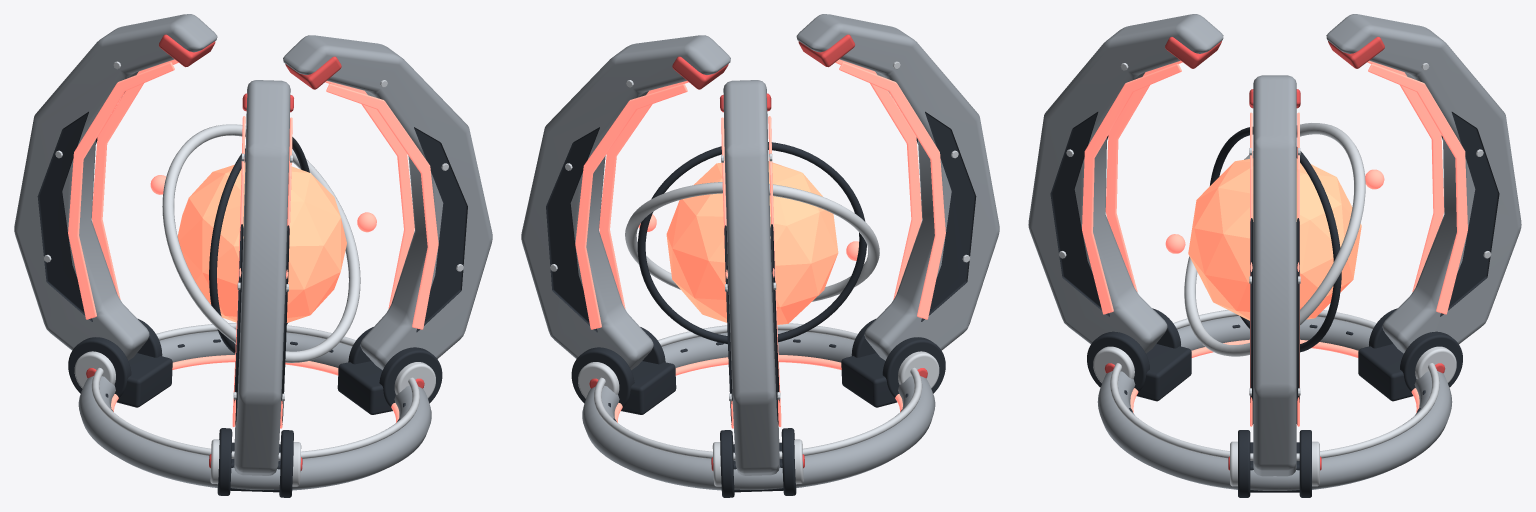
The model's file is claw-core.glb.
3 views of the same model, side by side, from view 1: azimuth 30°, elevation 25°; view 2: azimuth 150°, elevation 25°; view 3: azimuth 270°, elevation 25° (orthographic).
Parts seen in each view (by area): view 1: Finger_2_titanium_shell, Finger_1_titanium_shell, Finger_3_titanium_shell, Lower titanium collar, Shared_energy_crystal, Gyro outer ring, Finger_2_ceramic_panel_1, Finger_1_ceramic_panel_-1, Lower polished rim, Finger_2_light_rail_1, Finger_1_light_rail_-1, Finger_2_hinge (+15 smaller); view 2: Finger_3_titanium_shell, Finger_1_titanium_shell, Finger_2_titanium_shell, Lower titanium collar, Shared_energy_crystal, Finger_3_ceramic_panel_-1, Finger_1_ceramic_panel_1, Gyro offset ring, Gyro outer ring, Lower polished rim, Finger_3_light_rail_-1, Finger_1_light_rail_1 (+15 smaller); view 3: Finger_2_titanium_shell, Finger_3_titanium_shell, Finger_1_titanium_shell, Lower titanium collar, Shared_energy_crystal, Gyro outer ring, Finger_2_ceramic_panel_-1, Finger_3_ceramic_panel_1, Lower polished rim, Finger_2_light_rail_-1, Finger_3_light_rail_1, Finger_3_hinge (+16 smaller).
Part boxes in pixels (x1,y1,x2,y2): Finger_2_titanium_shell: (14, 14, 217, 360); Finger_1_titanium_shell: (283, 35, 492, 370); Finger_3_titanium_shell: (234, 80, 290, 475); Lower titanium collar: (78, 331, 431, 490); Shared_energy_crystal: (177, 162, 346, 322); Gyro outer ring: (162, 124, 360, 362); Finger_2_ceramic_panel_1: (37, 111, 92, 321); Finger_1_ceramic_panel_-1: (414, 127, 467, 332); Lower polished rim: (91, 323, 419, 460); Finger_2_light_rail_1: (68, 62, 174, 319); Finger_1_light_rail_-1: (326, 84, 438, 329); Finger_2_hinge: (68, 337, 131, 397); Finger_3_titanium_shell: (796, 14, 999, 360); Finger_1_titanium_shell: (521, 35, 730, 370); Finger_2_titanium_shell: (723, 80, 779, 475); Lower titanium collar: (582, 330, 935, 490); Shared_energy_crystal: (666, 161, 838, 324); Finger_3_ceramic_panel_-1: (921, 111, 976, 321); Finger_1_ceramic_panel_1: (546, 127, 599, 332); Gyro offset ring: (637, 142, 866, 344); Gyro outer ring: (625, 182, 879, 301); Lower polished rim: (594, 323, 922, 460); Finger_3_light_rail_-1: (839, 62, 945, 319); Finger_1_light_rail_1: (575, 84, 687, 329); Finger_2_titanium_shell: (1326, 14, 1521, 353); Finger_3_titanium_shell: (1028, 14, 1223, 353); Finger_1_titanium_shell: (1253, 75, 1296, 476); Lower titanium collar: (1097, 316, 1452, 490); Shared_energy_crystal: (1188, 158, 1361, 320); Gyro outer ring: (1184, 123, 1365, 356); Finger_2_ceramic_panel_-1: (1440, 112, 1499, 316); Finger_3_ceramic_panel_1: (1050, 112, 1109, 316); Lower polished rim: (1110, 310, 1439, 460); Finger_2_light_rail_-1: (1368, 64, 1467, 314); Finger_3_light_rail_1: (1082, 64, 1181, 314); Finger_3_hinge: (1087, 331, 1149, 391).
Bounding box in the file's own units: 2.86 × 2.8 × 3.19.
